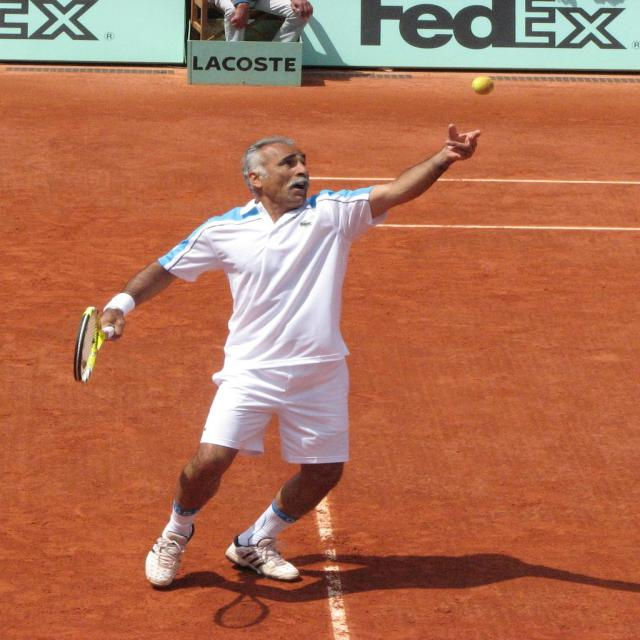Face: (256, 140, 311, 212)
